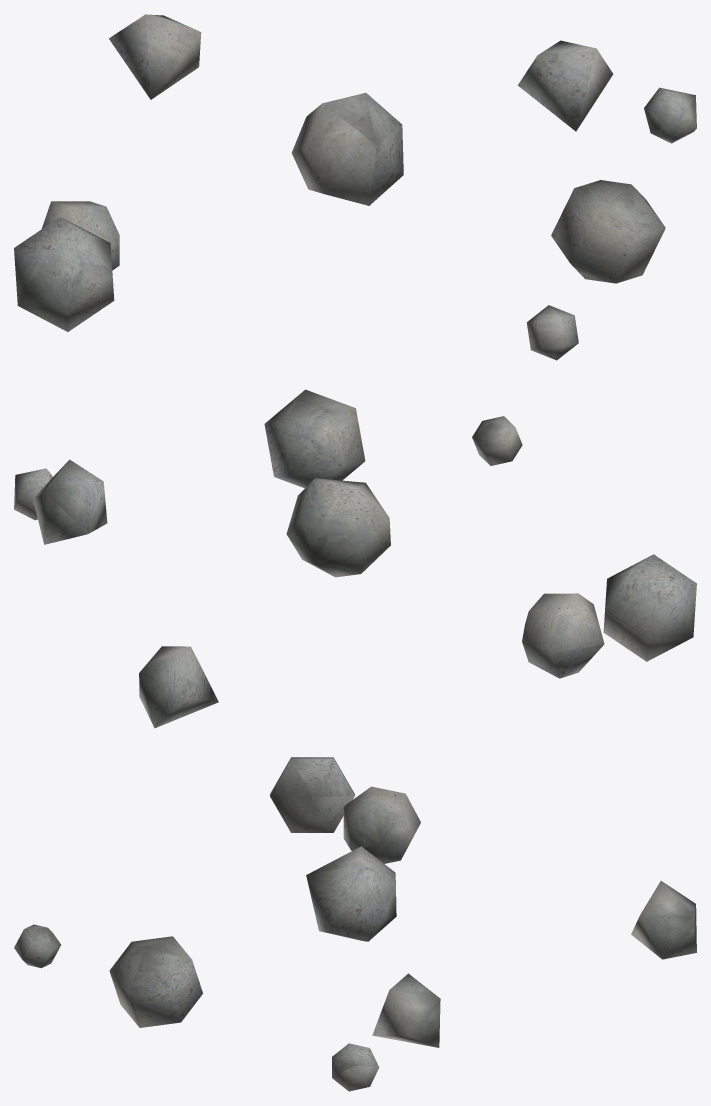
The model's file is stone8.obj.
The picture shows the model from 3 angles, top to bottom: view 1: azimuth 30°, elevation 25°; view 2: azimuth 150°, elevation 25°; view 3: azimuth 270°, elevation 25°; orthographic projection. The views are drawn at different scales.
Visible parts, largest first — view 1: Sphere005, Sphere001, Sphere008, Sphere003, Sphere007, Sphere006, Sphere002, Sphere004; view 2: Sphere005, Sphere001, Sphere008, Sphere004, Sphere007, Sphere003, Sphere002, Sphere006; view 3: Sphere005, Sphere008, Sphere001, Sphere004, Sphere007, Sphere003, Sphere006, Sphere002.
Part boxes in pixels (x1,y1,x2,y2): Sphere005: (291,92,403,205); Sphere001: (14,216,114,331); Sphere008: (551,180,665,283); Sphere003: (517,40,613,131); Sphere007: (109,14,201,99); Sphere006: (644,87,696,143); Sphere002: (526,305,578,360); Sphere004: (42,201,119,270); Sphere005: (286,478,390,577); Sphere001: (603,554,696,661); Sphere008: (264,389,365,488); Sphere004: (522,593,604,678); Sphere007: (139,646,218,728); Sphere003: (33,459,107,544); Sphere002: (472,416,522,465); Sphere006: (14,468,52,520); Sphere005: (306,846,396,941); Sphere008: (109,936,202,1027); Sphere001: (270,757,354,832); Sphere004: (343,786,420,863); Sphere007: (631,881,696,959); Sphere003: (372,973,440,1047); Sphere006: (332,1043,379,1091); Sphere002: (14,924,60,968).
Bounding box in the file's own units: 202 × 36.76 × 200.
1 material, 1 textured.
